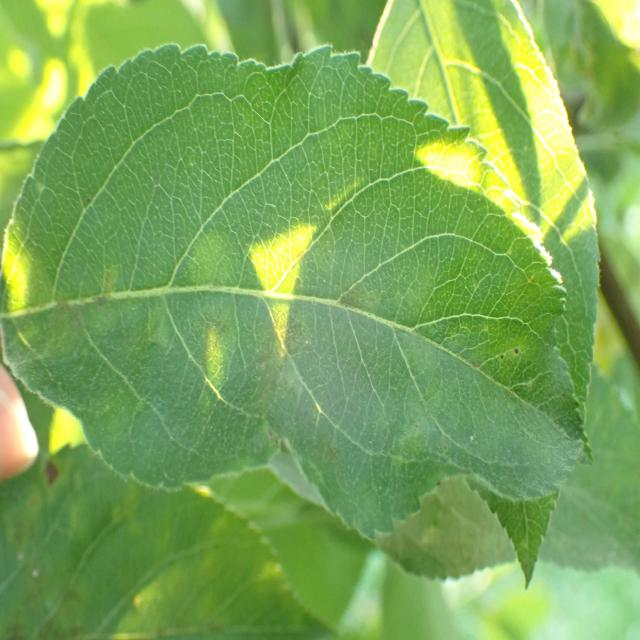scab: (2, 147, 546, 506)
